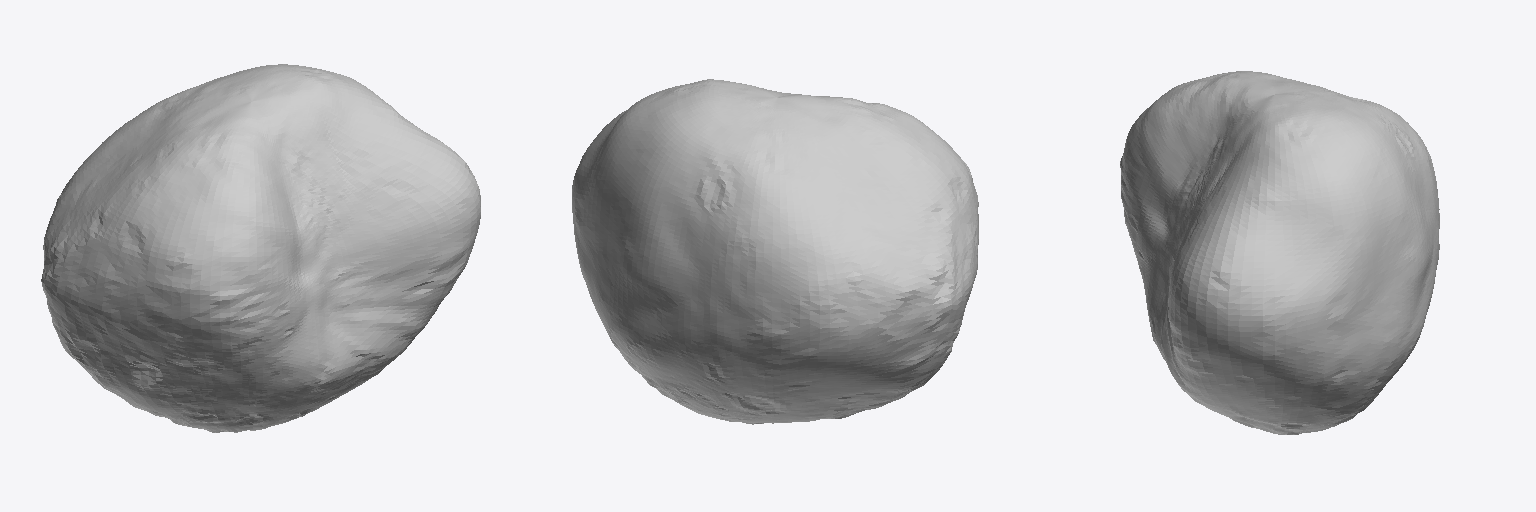
Rendered from Deimos.obj.
The picture shows the model from 3 angles: view 1: azimuth 30°, elevation 25°; view 2: azimuth 150°, elevation 25°; view 3: azimuth 270°, elevation 25°; orthographic projection.
Parts seen in each view (by area): view 1: deimos; view 2: deimos; view 3: deimos.
Boxes of the visible parts, x1=… form: deimos: x1=41, y1=64, x2=480, y2=432; deimos: x1=572, y1=79, x2=978, y2=424; deimos: x1=1120, y1=71, x2=1439, y2=434.
Bounding box in the file's own units: 15.01 × 11.87 × 10.51.